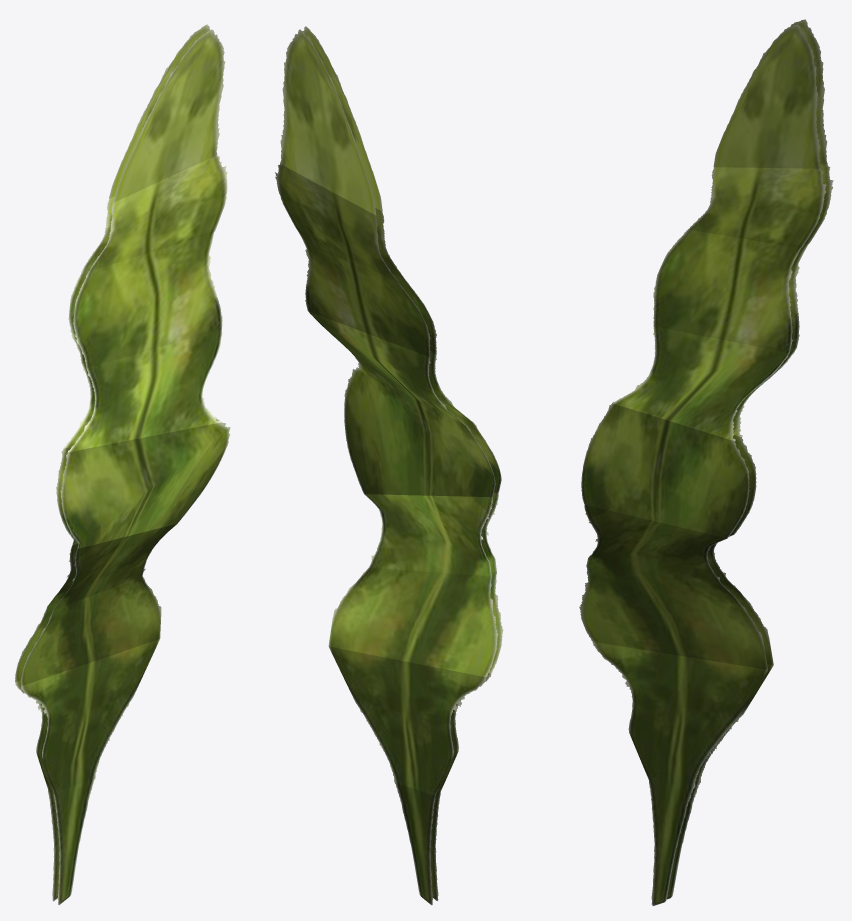
Rendered from seaweed3.fbx.
3 renders of one model, left to right at view 1: azimuth 30°, elevation 25°; view 2: azimuth 150°, elevation 25°; view 3: azimuth 330°, elevation 25°, orthographic. The views are drawn at different scales.
Visible parts, largest first — view 1: 平面; view 2: 平面; view 3: 平面.
Boxes of the visible parts, left/top/right/bottom form: 平面: left=15, top=24, right=230, bottom=905; 平面: left=275, top=26, right=503, bottom=905; 平面: left=579, top=19, right=833, bottom=905.
Bounding box in the file's own units: 11782 × 42925 × 4896.
